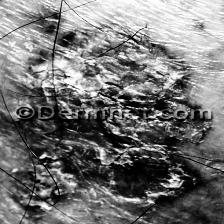Potentially Malignant Skin Tumors: (14, 125, 222, 199)
